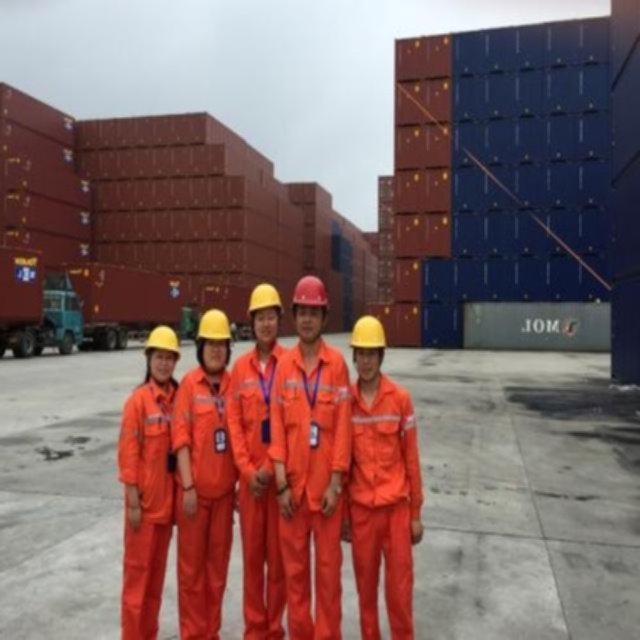Con_Casco: (292, 277, 327, 341), (250, 281, 282, 343), (349, 317, 383, 370)
